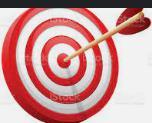target_red: (0, 7, 119, 122)
